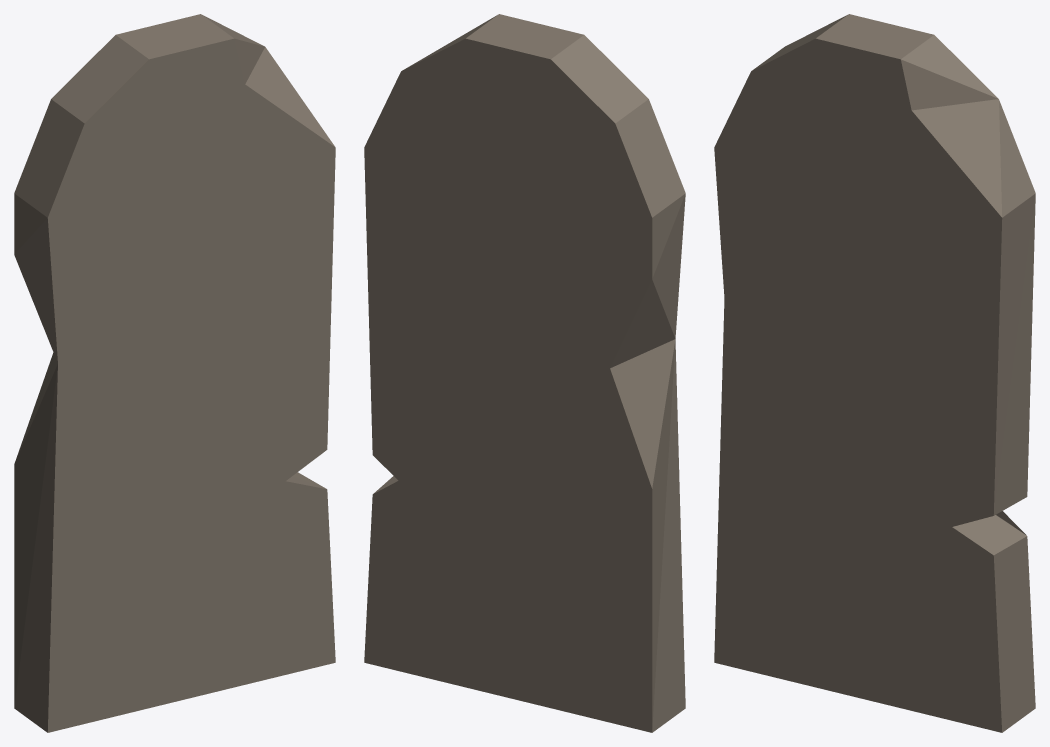
Rendered from SM_Prop_Grave_02.glb.
3 renders of one model, left to right at view 1: azimuth 30°, elevation 25°; view 2: azimuth 150°, elevation 25°; view 3: azimuth 330°, elevation 25°, orthographic.
Visible parts, largest first — view 1: SM_Prop_Grave_02_part00; view 2: SM_Prop_Grave_02_part00; view 3: SM_Prop_Grave_02_part00.
Part boxes in pixels (<box>): SM_Prop_Grave_02_part00: <box>14,14,335,732</box>; SM_Prop_Grave_02_part00: <box>364,14,685,732</box>; SM_Prop_Grave_02_part00: <box>714,14,1035,732</box>.
Bounding box in the file's own units: 0.5471 × 1.18 × 0.1105.
1 material, 1 textured.
